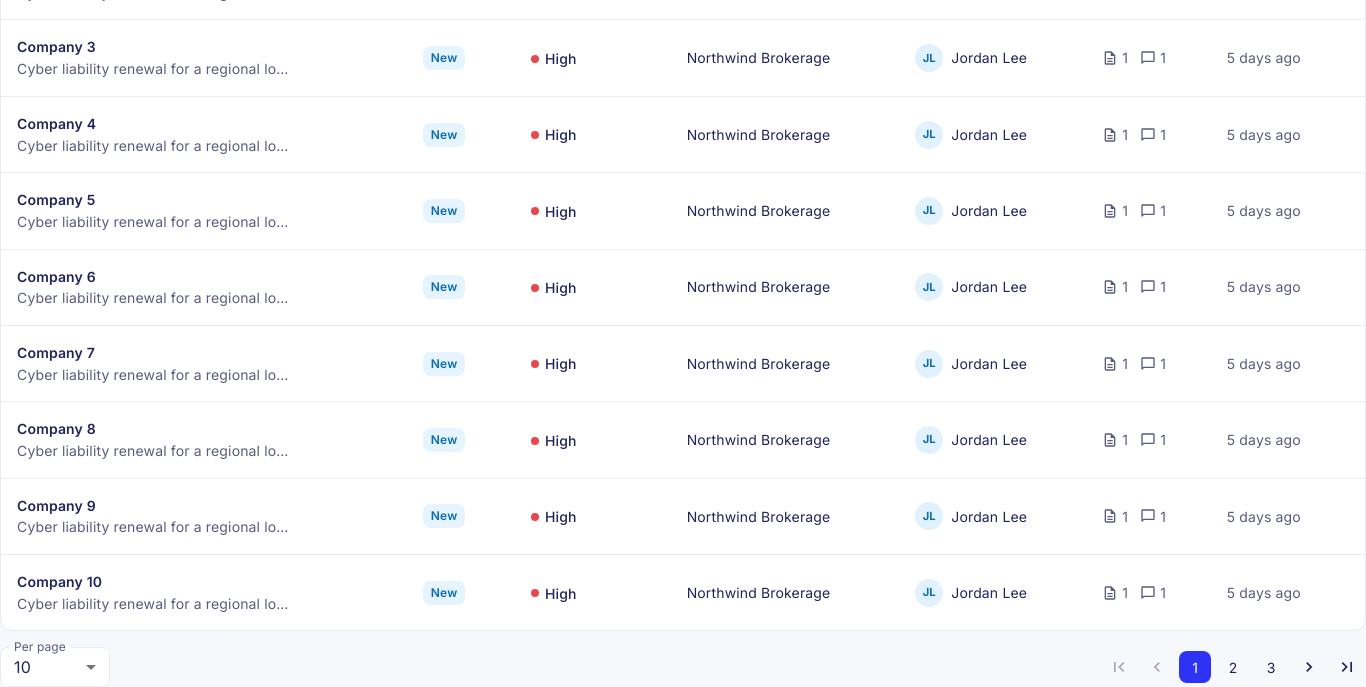
Test case: SubmissionsWorkspace › pages through results with a new history entry and scrolls back to the top
(page scrolled)
Click the button named "Go to page 2" at (1233, 668), box [1217, 652, 1249, 684]
(page scrolled)
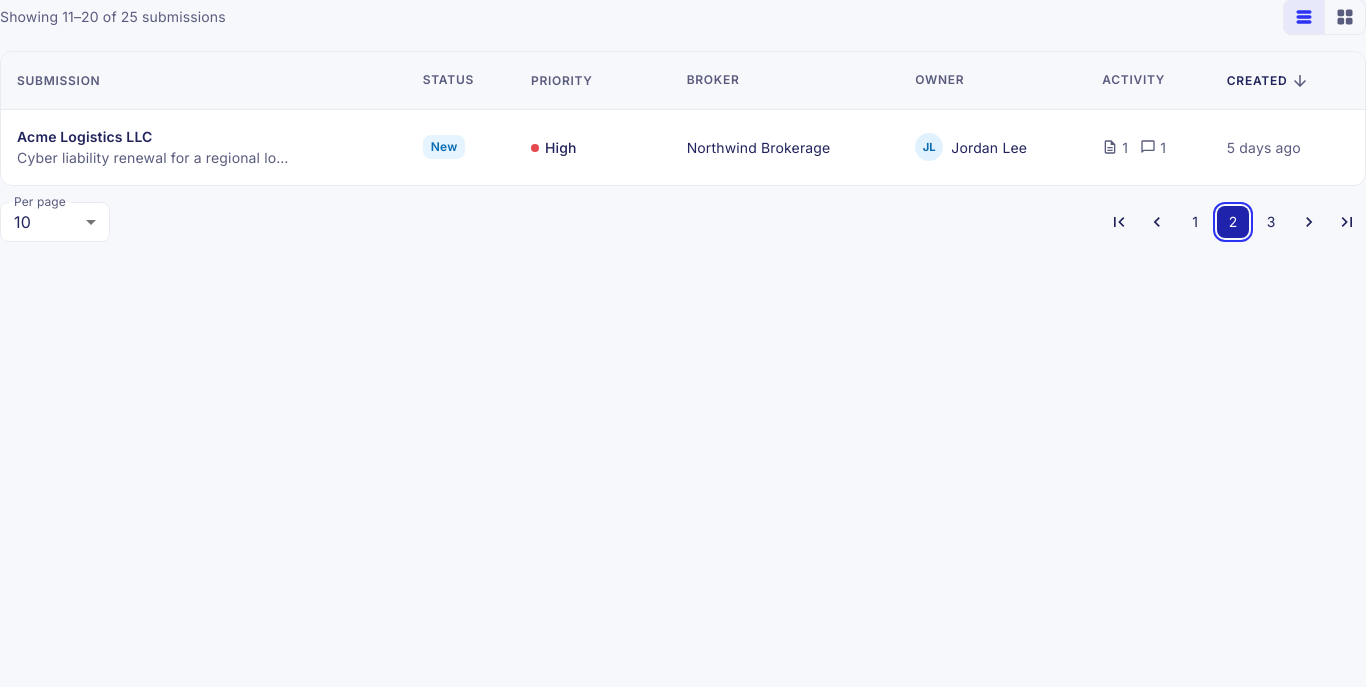
Result: the text "Showing 11–20 of 25 submissions" is shown at [0, 6, 226, 28]
